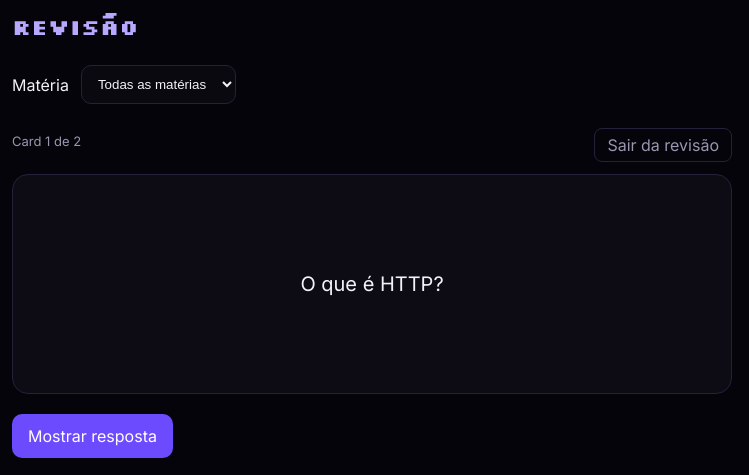
Scenario: ReviewPage › mostrar resposta revela o verso e os 4 botões
Expected: the text "O que é HTTP?" is shown, [300,272,444,296]
Click the button "Mostrar resposta": (92, 436) [12,414,173,458]
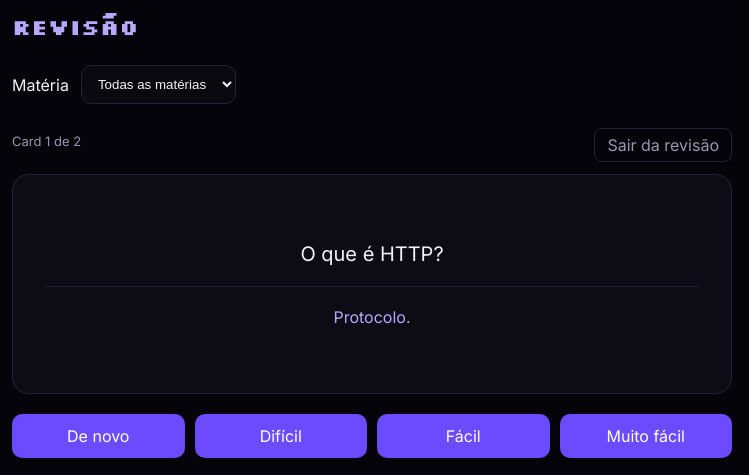
Expected: the text "Protocolo." is shown, [45,286,699,326]
Expected: the button "Muito fácil" is shown, [560,414,732,458]
Expected: the button "Fácil" is shown, [377,414,550,458]
